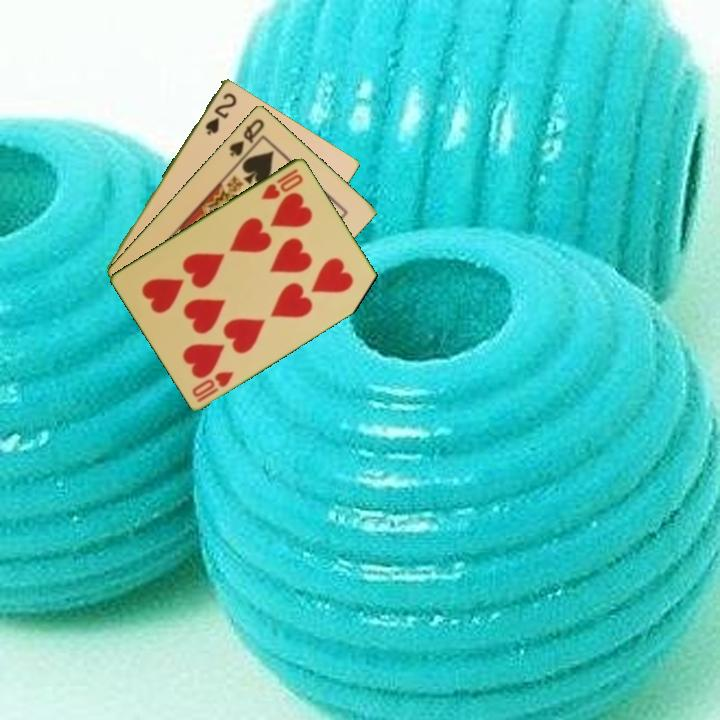10h: (189, 367, 237, 405), (257, 165, 306, 202)
2s: (201, 89, 240, 137)
Qs: (225, 115, 267, 160)
